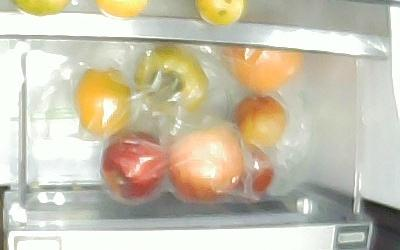apple_vinyl: (167, 124, 244, 200), (98, 128, 168, 199)
grapefruit_vinyl: (220, 47, 303, 92)
persimmon_vinyl: (131, 44, 209, 115), (73, 68, 134, 137)
prune_vinyl: (231, 97, 287, 147), (232, 143, 275, 193)
